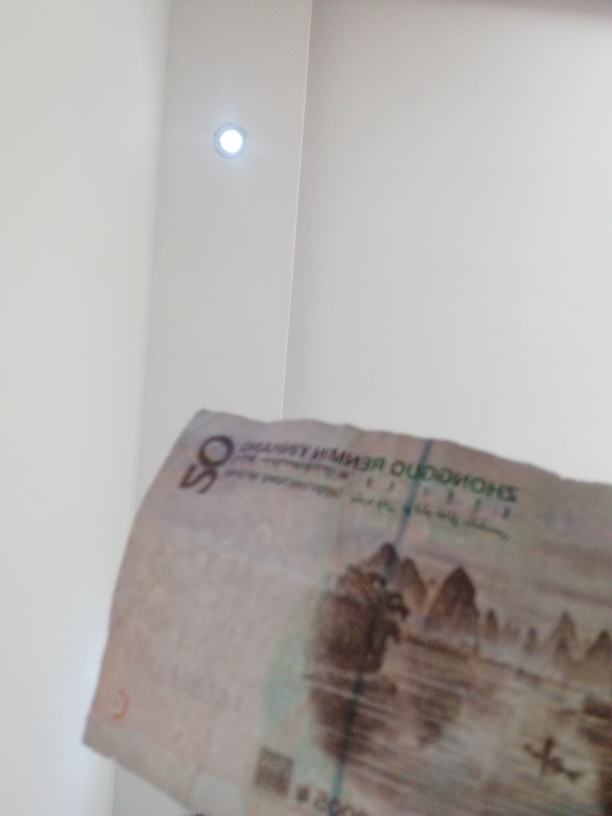rmb: (82, 408, 606, 816)
